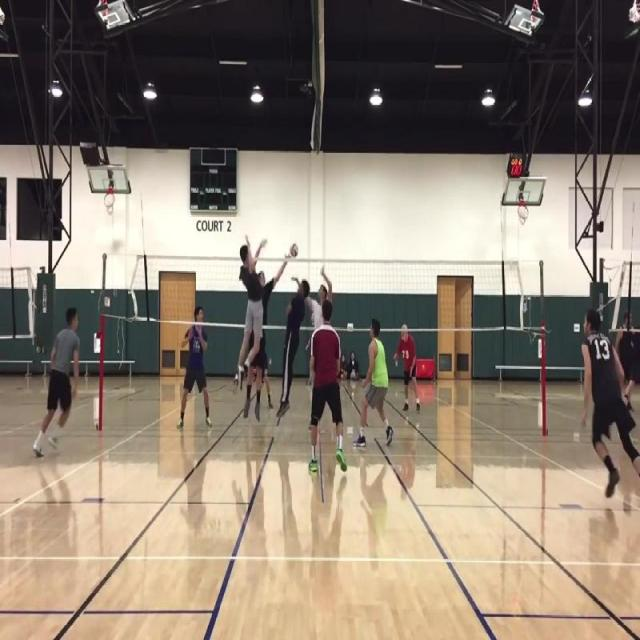volleyball: (290, 242, 298, 257)
